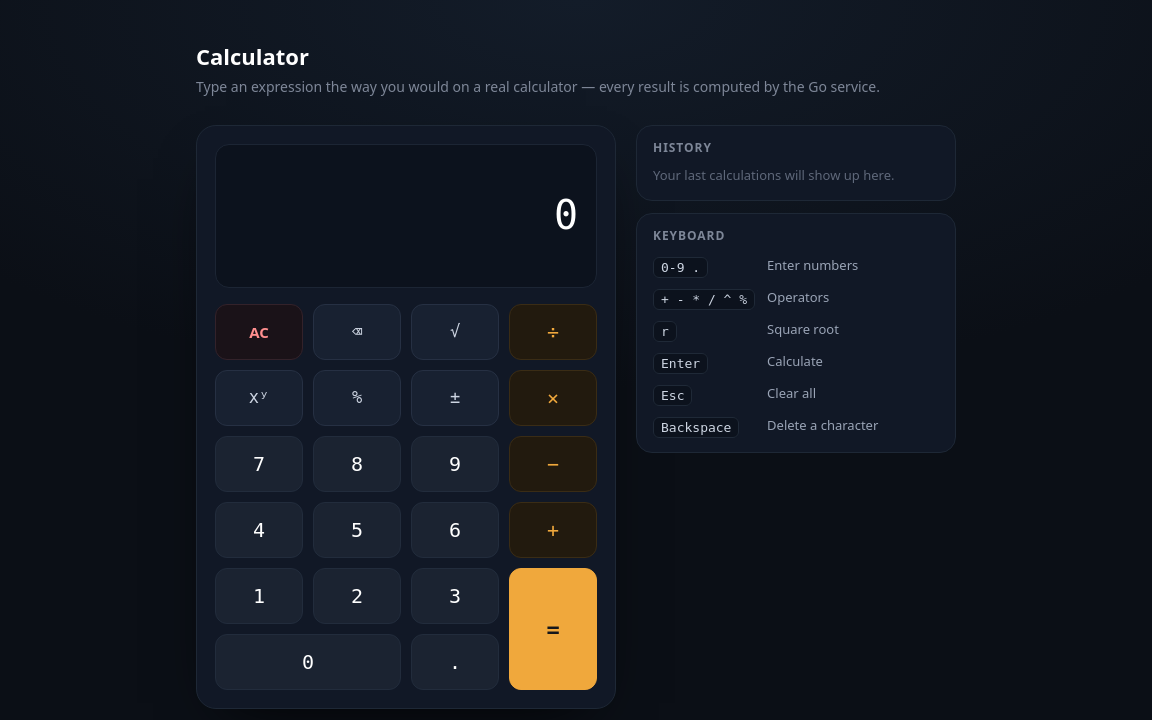
Test: calculating › sends the calculation and shows the result
What coordinates should you click on to do the following:
click the button "1"
I would click on:
 (259, 596)
Its box is [215,568,303,624].
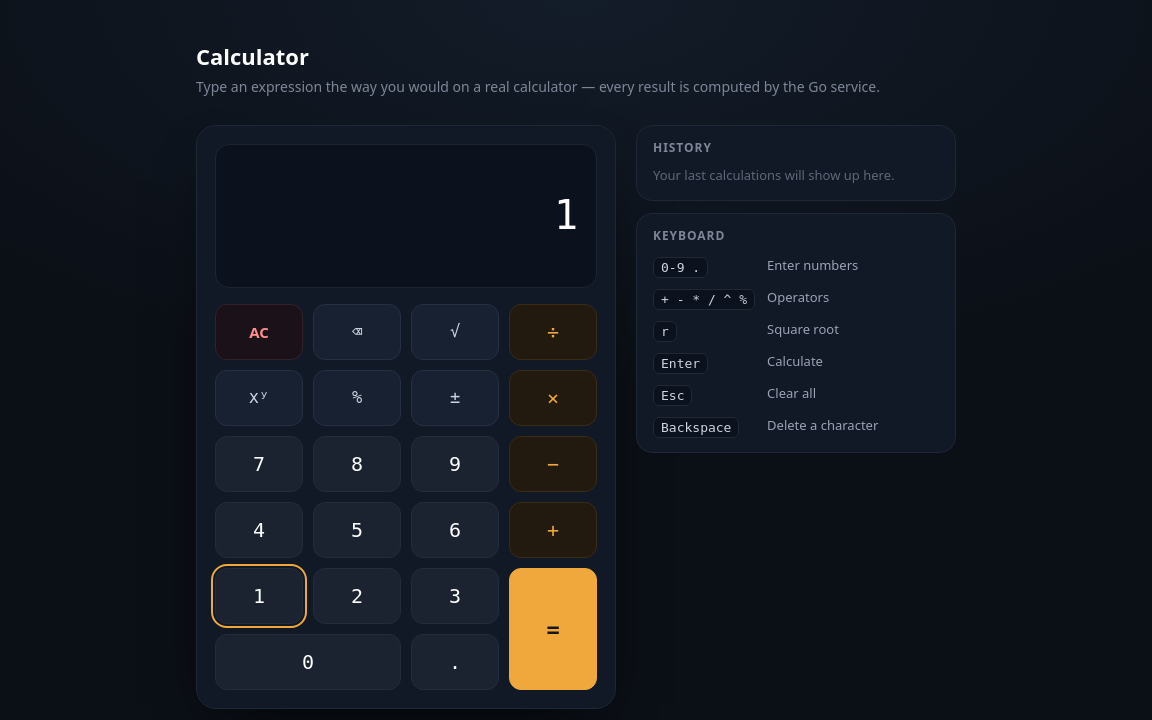
What coordinates should you click on to do the following:
click the button "2"
I would click on:
 (357, 596)
Its box is [313,568,401,624].
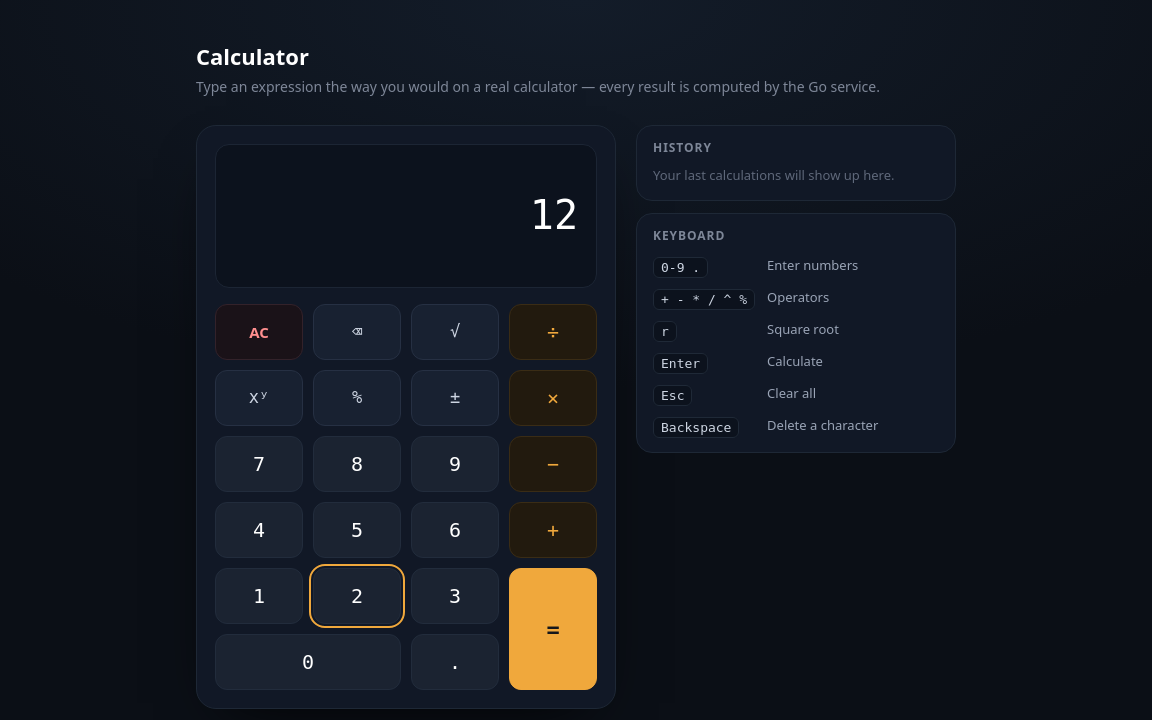
What coordinates should you click on to do the following:
click the button named "Multiply"
I would click on:
 (553, 398)
Its box is [509,370,597,426].
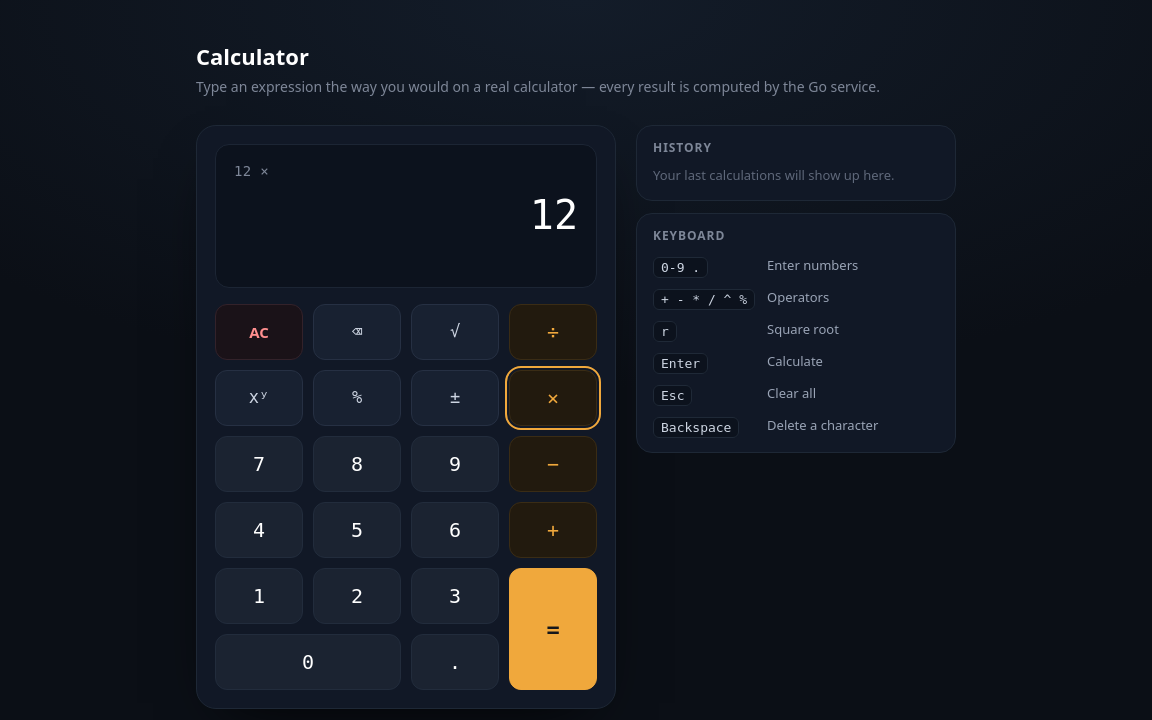
What coordinates should you click on to do the following:
click the button "4"
I would click on:
 (259, 530)
Its box is [215,502,303,558].
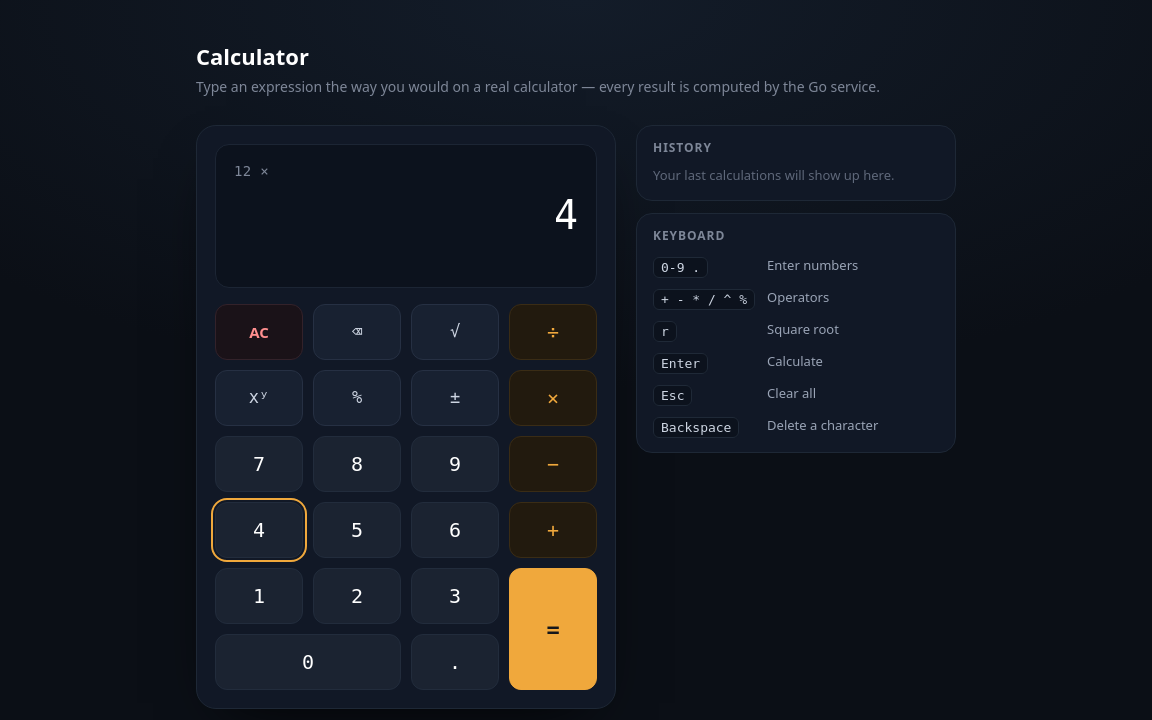
What coordinates should you click on to do the following:
click the button named "Calculate"
I would click on:
 (553, 629)
Its box is [509,568,597,690].
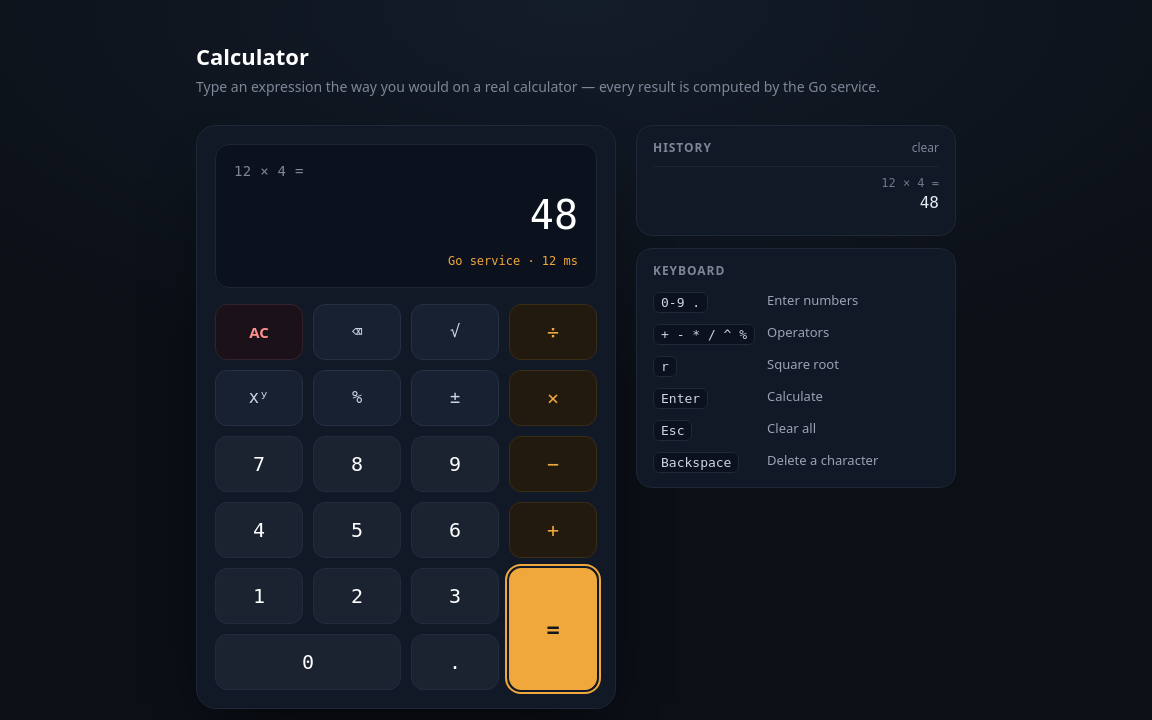
Check: the element showing "12 × 4 = 48 Go service · 12 ms" is shown, box [215,144,597,288]
